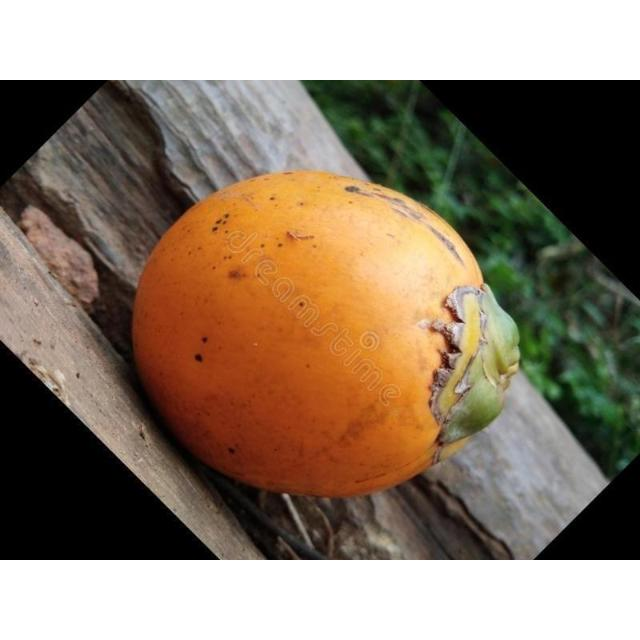good: (130, 170, 520, 500)
